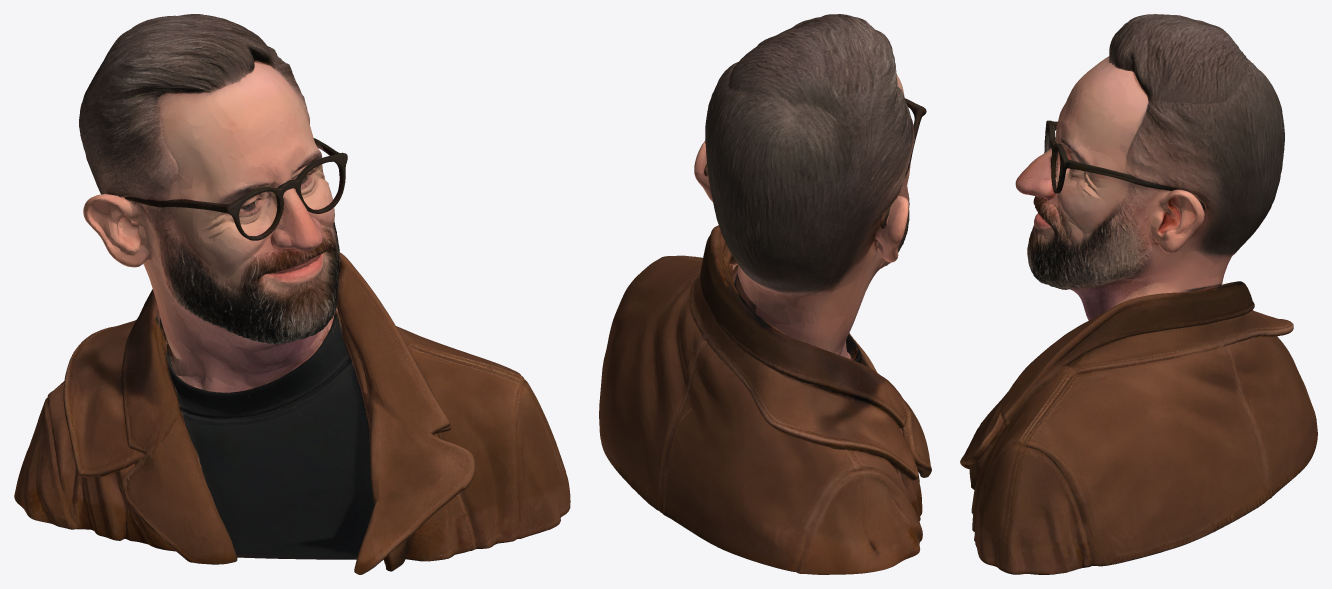
File: billy-meshyhi.glb
The picture shows the model from 3 angles, left to right: view 1: azimuth 30°, elevation 25°; view 2: azimuth 150°, elevation 25°; view 3: azimuth 270°, elevation 25°; orthographic projection. The views are drawn at different scales.
Size of the model in its own units: 1.7 by 1.9 by 1.44.
1 material, 1 textured.
